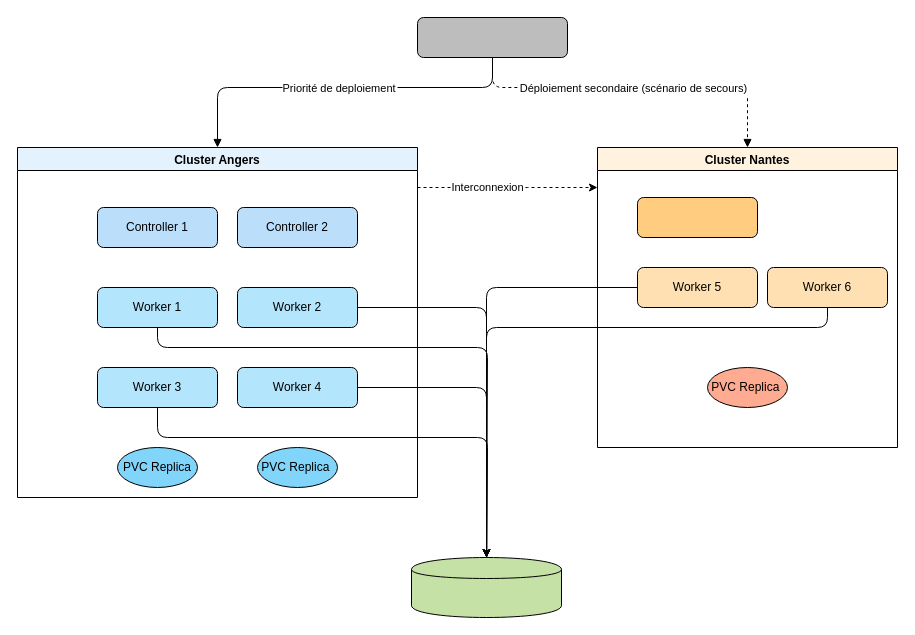
Some shapes in this 915 by 635 pixel diagram are drawn without their labels. Each missing label, with the centre of its shape:
Controller 3: the point at 697,217
Longhorn Storage: the point at 486,587
Règle de déploiement des pods: the point at 492,37
